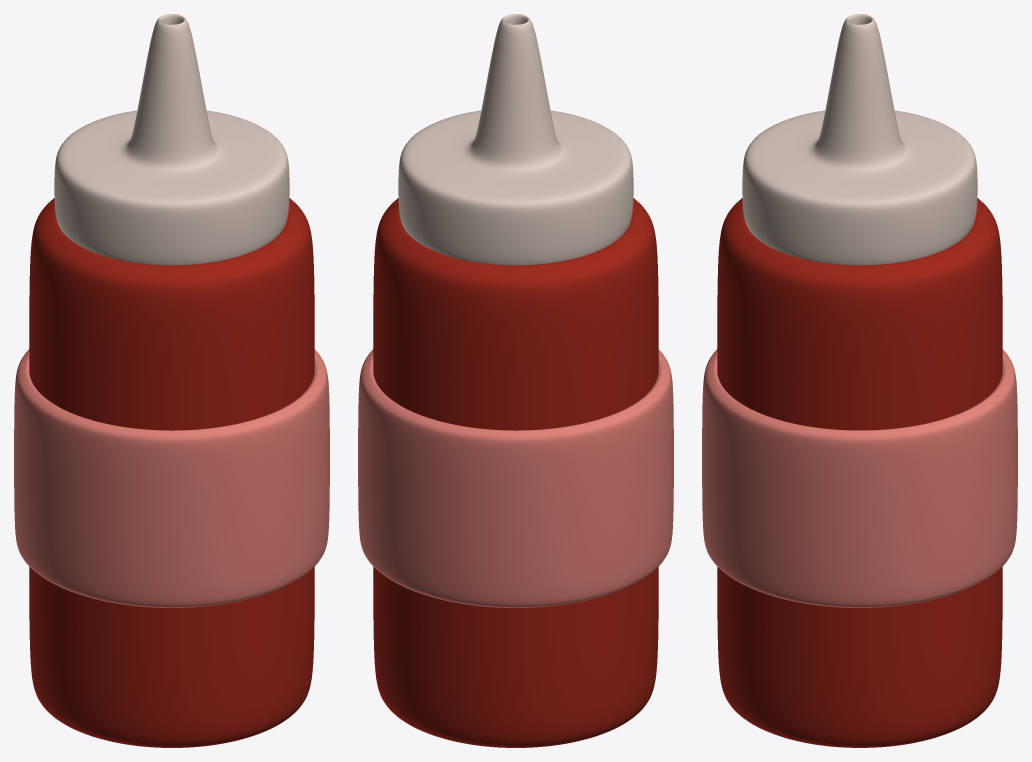
The model's file is KetchupBottle.fbx.
The picture shows the model from 3 angles, left to right: view 1: azimuth 30°, elevation 25°; view 2: azimuth 150°, elevation 25°; view 3: azimuth 270°, elevation 25°; orthographic projection.
Parts seen in each view (by area): view 1: KetchupBottle_Body, KetchupBottle_Label, KetchupBottle_Cap; view 2: KetchupBottle_Body, KetchupBottle_Label, KetchupBottle_Cap; view 3: KetchupBottle_Body, KetchupBottle_Label, KetchupBottle_Cap.
Boxes of the visible parts, box(x1,y1,x2,y2) form: KetchupBottle_Body: box(29, 198, 314, 747); KetchupBottle_Label: box(14, 349, 329, 607); KetchupBottle_Cap: box(54, 14, 289, 265); KetchupBottle_Body: box(373, 198, 658, 747); KetchupBottle_Label: box(358, 349, 673, 607); KetchupBottle_Cap: box(398, 14, 633, 265); KetchupBottle_Body: box(717, 198, 1002, 747); KetchupBottle_Label: box(702, 349, 1017, 607); KetchupBottle_Cap: box(742, 14, 977, 265).
Size of the model in its own units: 102 by 242 by 102.
